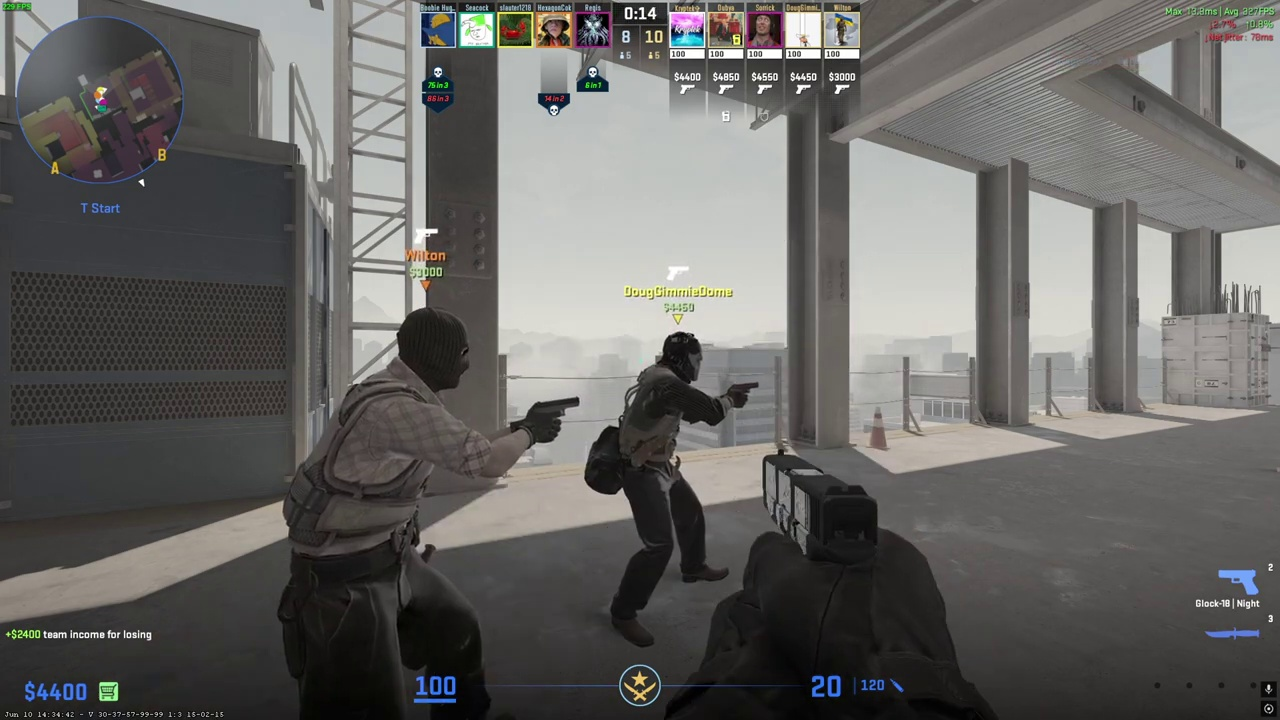Terrorist: (282, 307, 496, 720), (609, 331, 728, 645)
